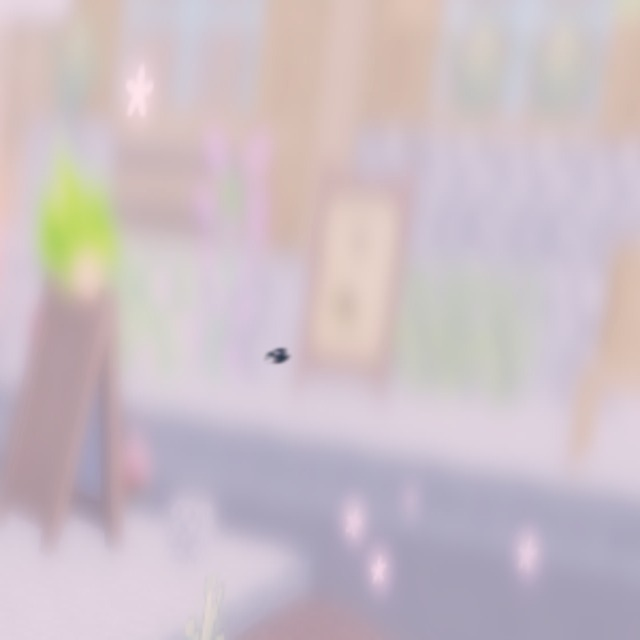urso_preto: (262, 345, 293, 368)
